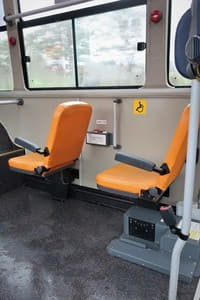seat: (10, 98, 92, 185)
